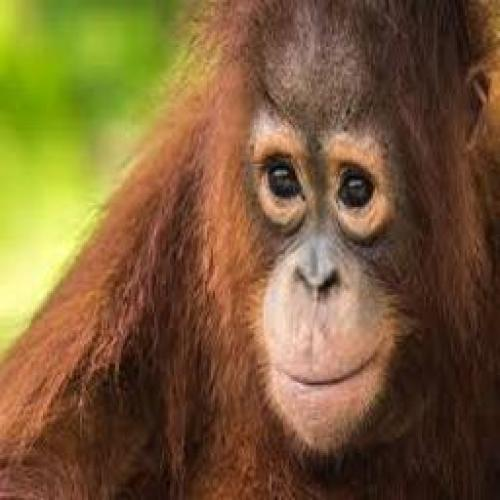orangutan-endangered: (10, 13, 489, 492)
